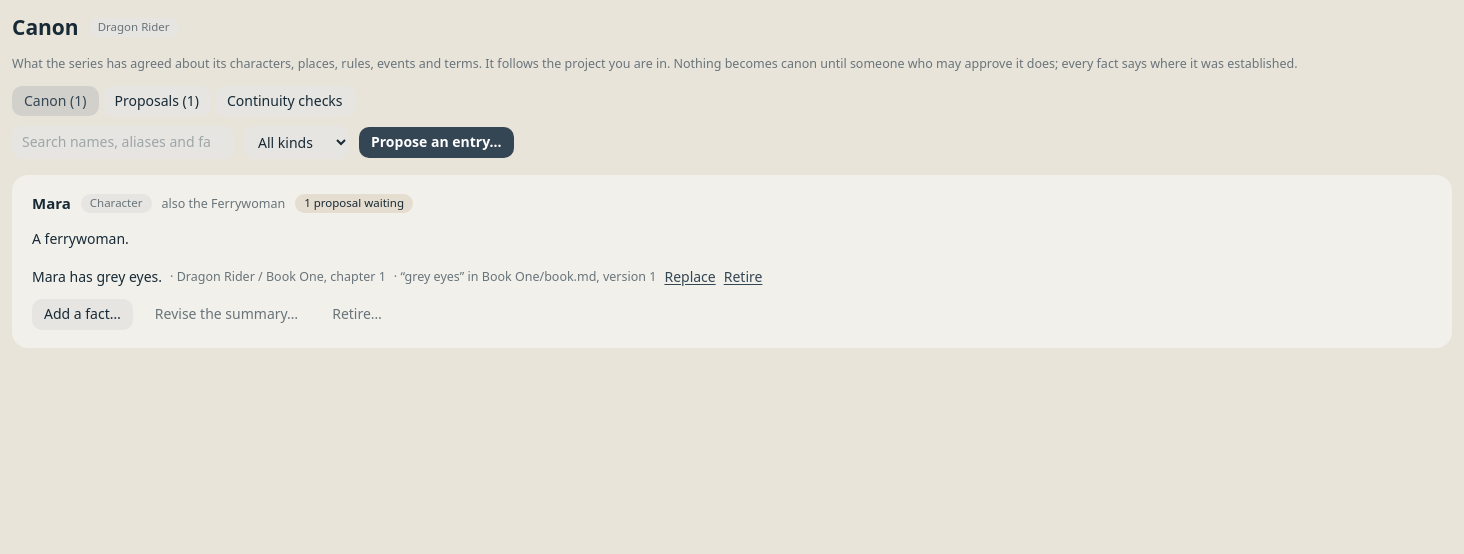
Test case: the Continuity tab › lists the checks, and a check shows each finding with the passage marked in its surroundings and the canon fact it cites
The image size is (1464, 554).
Click the tab "Continuity checks" at point(285, 101), box left=215, top=86, right=355, bottom=116
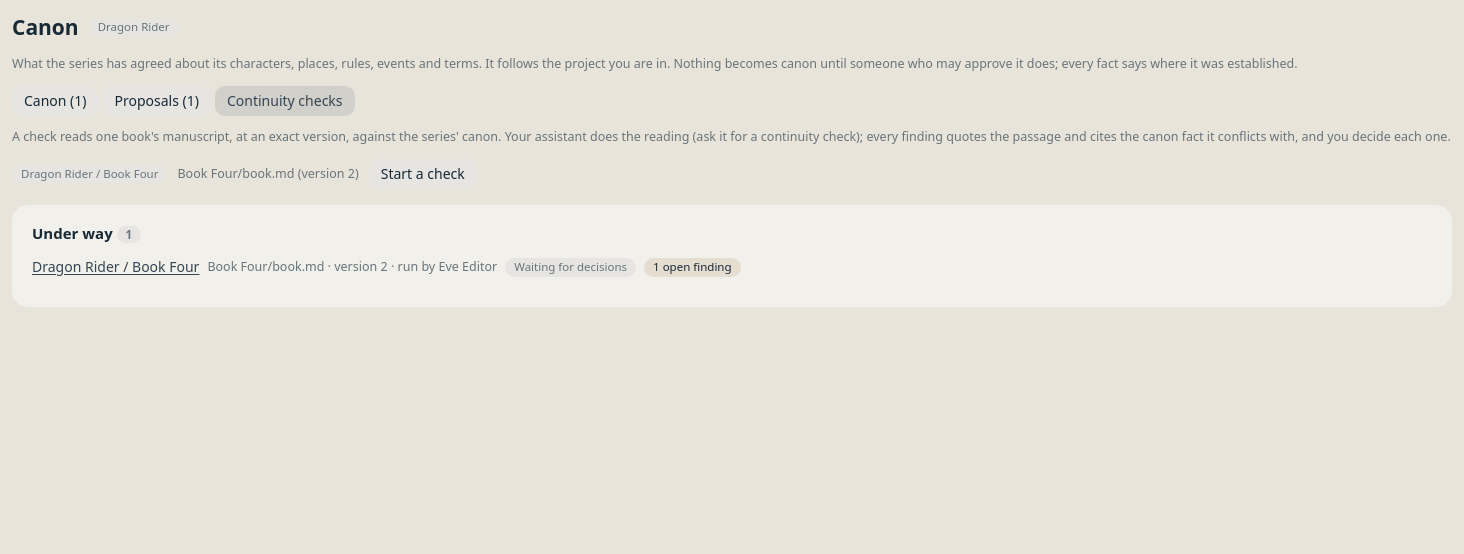
expect the button "Dragon Rider / Book Four" is shown: met
Click the button "Dragon Rider / Book Four" at point(116, 267), box left=32, top=257, right=199, bottom=277
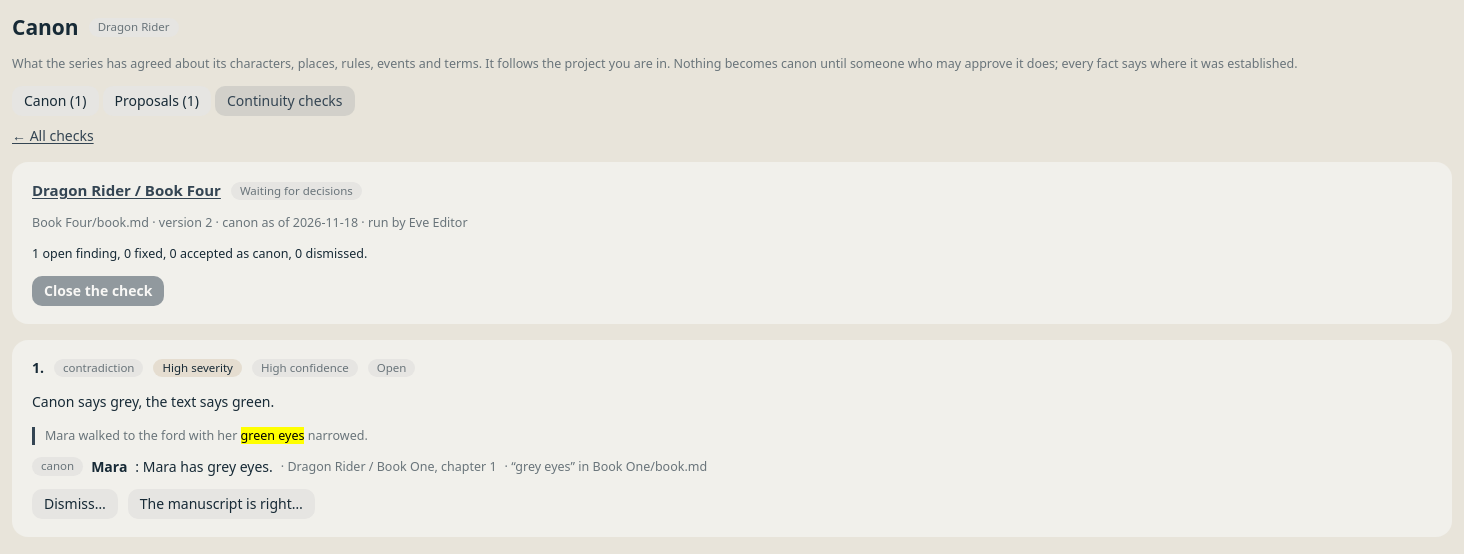
expect the text "Waiting for decisions" is shown: met, box left=231, top=182, right=362, bottom=200
expect the text "Canon says grey, the text says green." is shown: met, box left=32, top=392, right=274, bottom=411
expect the text "green eyes" is shown: met, box left=241, top=426, right=304, bottom=444
